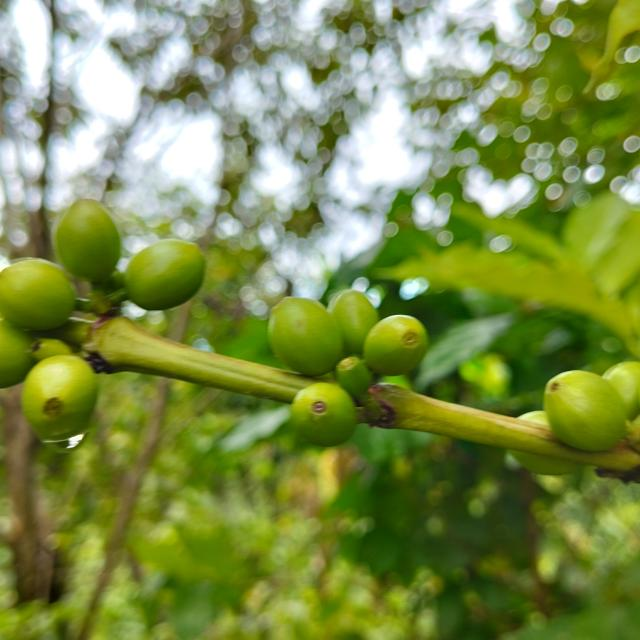green: (544, 371, 628, 452), (544, 371, 628, 452), (20, 355, 96, 442), (20, 355, 96, 442), (268, 297, 344, 376), (268, 297, 344, 376), (124, 239, 205, 310), (124, 239, 205, 310), (54, 199, 120, 282), (54, 199, 120, 282), (0, 259, 74, 330), (0, 259, 74, 330), (291, 383, 357, 447), (291, 383, 357, 447), (363, 315, 429, 376), (363, 315, 429, 376), (328, 289, 379, 354), (0, 319, 34, 388), (0, 319, 34, 388), (603, 362, 640, 420), (510, 451, 581, 476), (519, 411, 551, 428)
